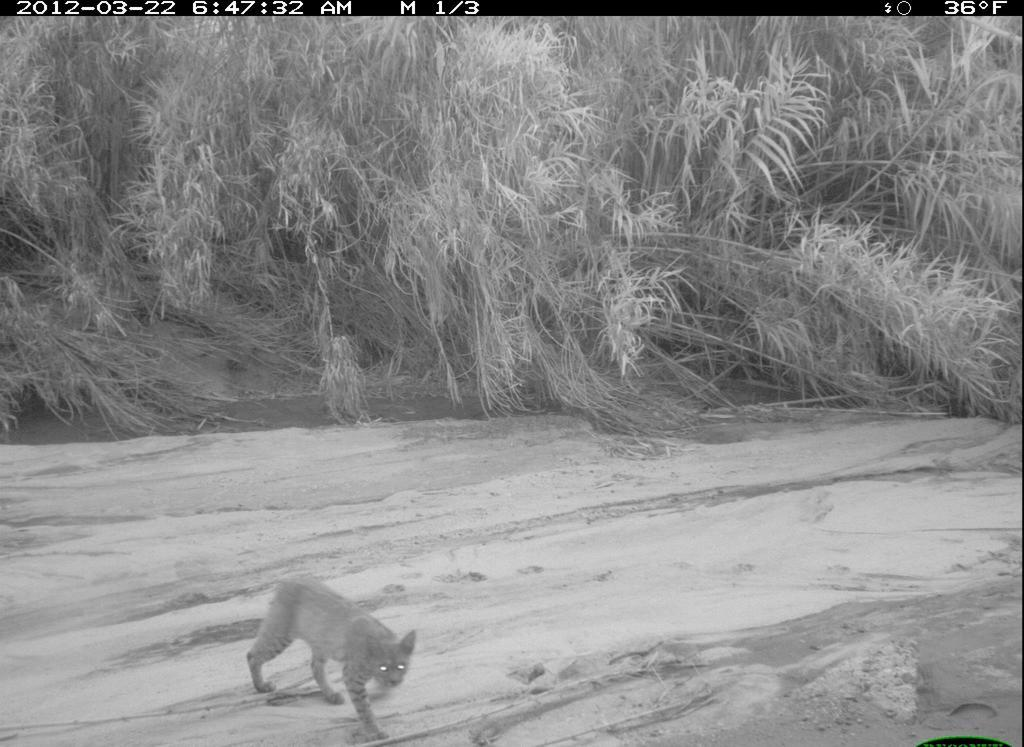bobcat: (242, 564, 422, 747)
